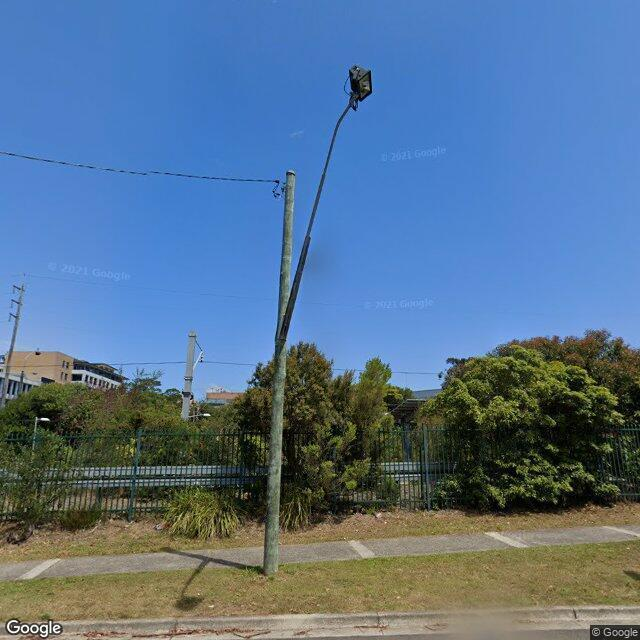HV-transmission: (8, 274, 25, 322)
streetlight: (279, 64, 374, 342)
timber-pole: (262, 170, 296, 578), (0, 286, 24, 406), (180, 332, 197, 421)
